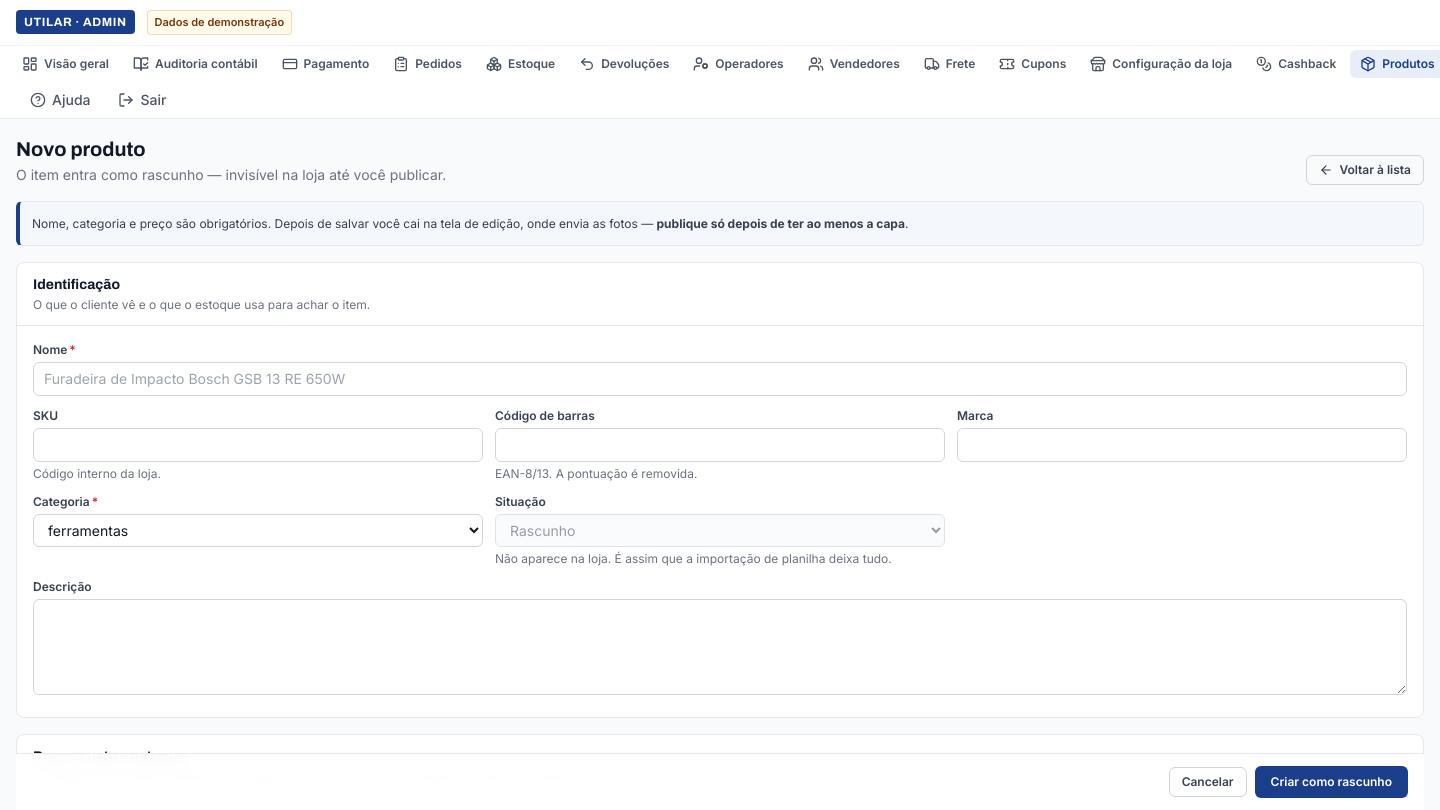
Test: Formulário — criação › cria o produto e leva para a edição, onde estão as fotos
Type "Martelo Unha 27mm" into the field labelled "Nome*" at x=720, y=379, box top-left (33, 362), bottom-right (1407, 396)
(page scrolled)
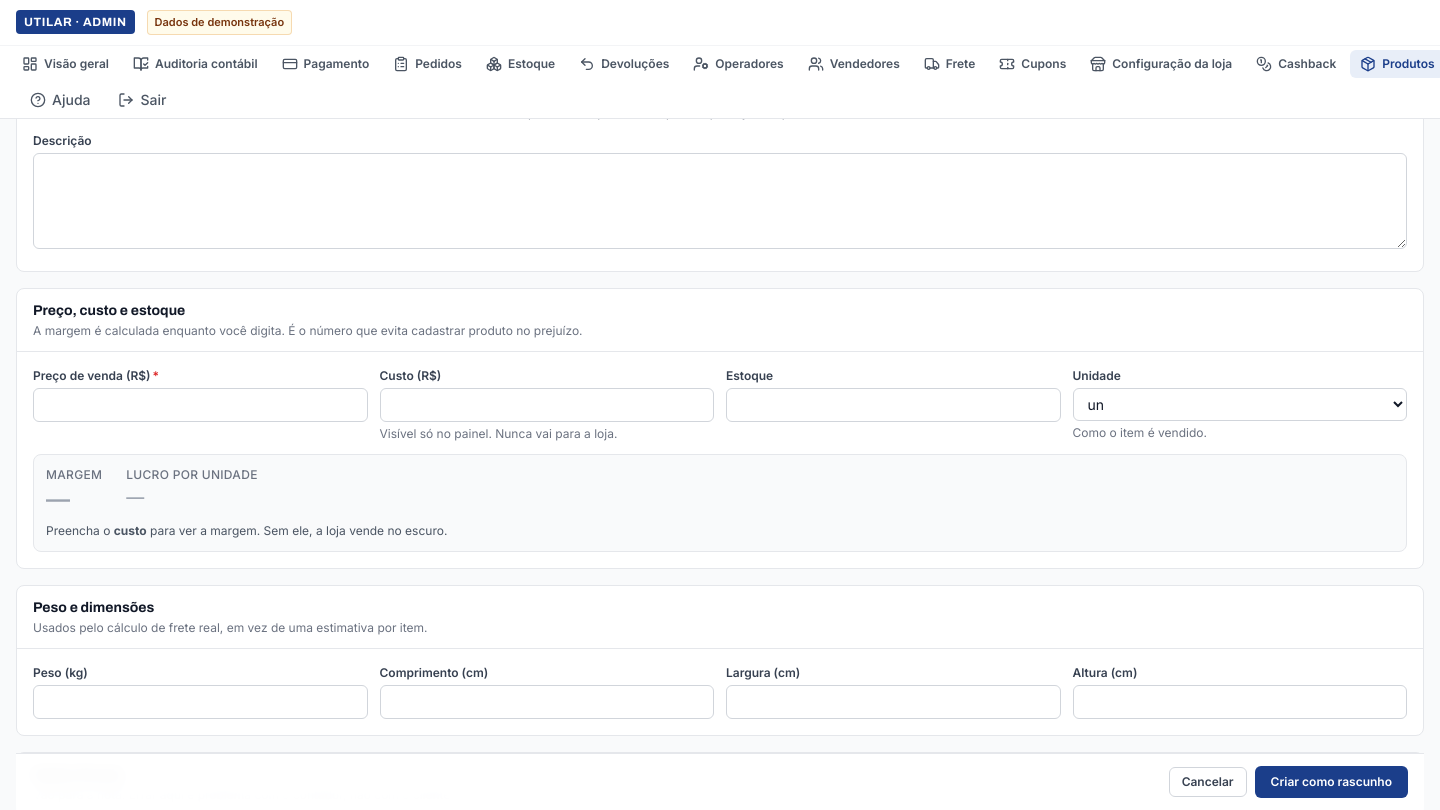
Type "39.90" into the number field labelled "Preço de venda (R$)*" at x=200, y=405, box top-left (33, 388), bottom-right (368, 422)
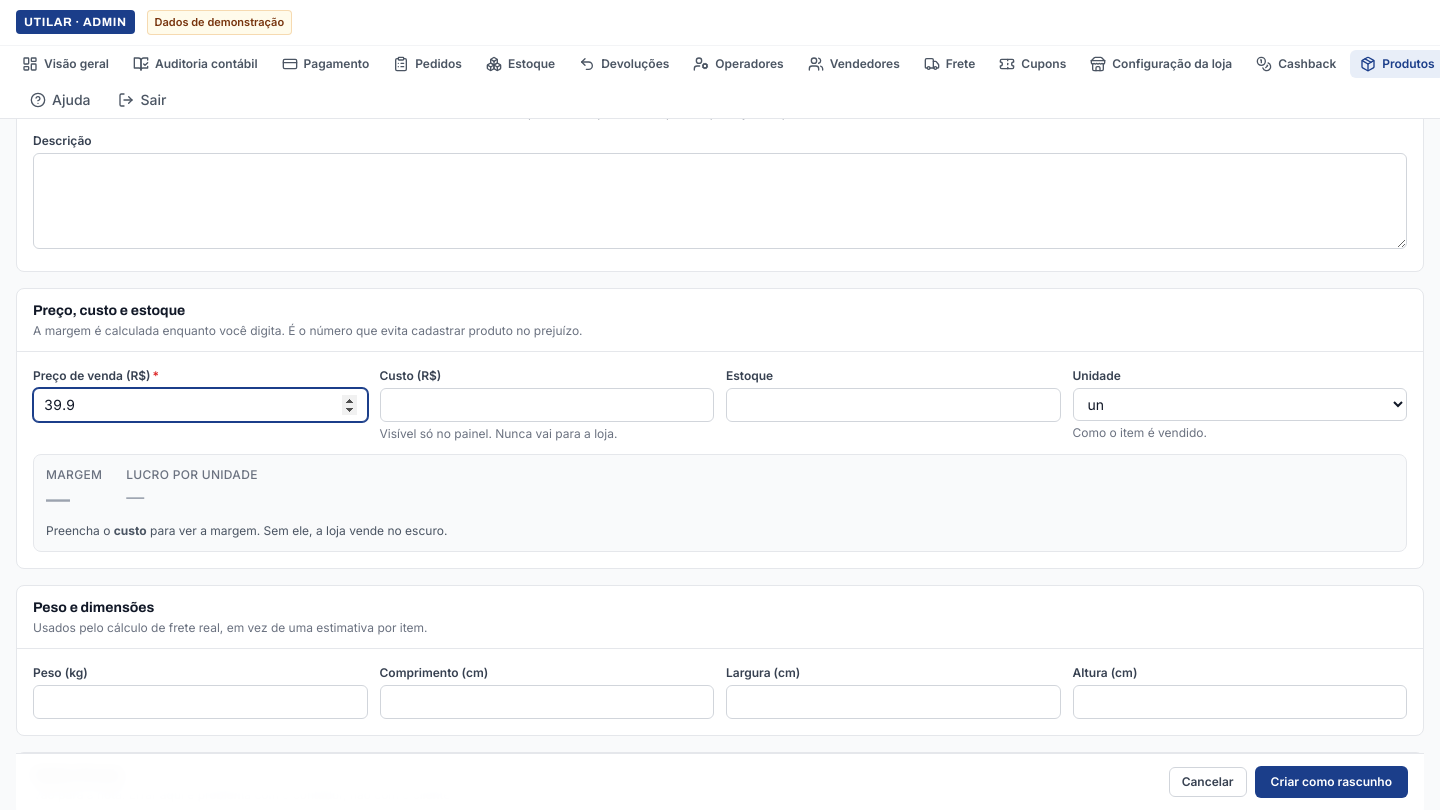
Click the button "Criar como rascunho" at x=1331, y=782, box top-left (1255, 766), bottom-right (1408, 798)
(page scrolled)
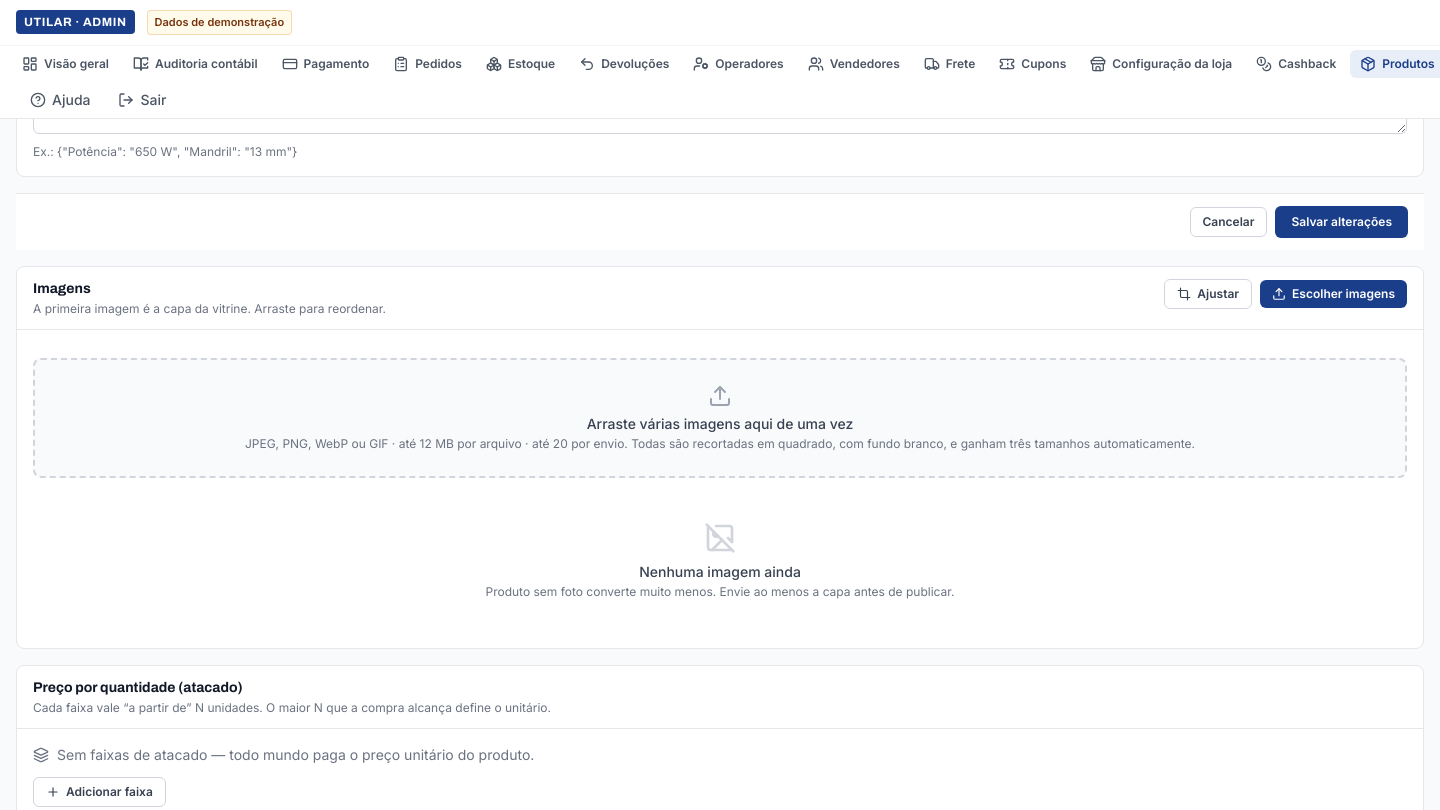
Now the element with test id "image-dropzone" is shown, box top-left (33, 358), bottom-right (1407, 478)
